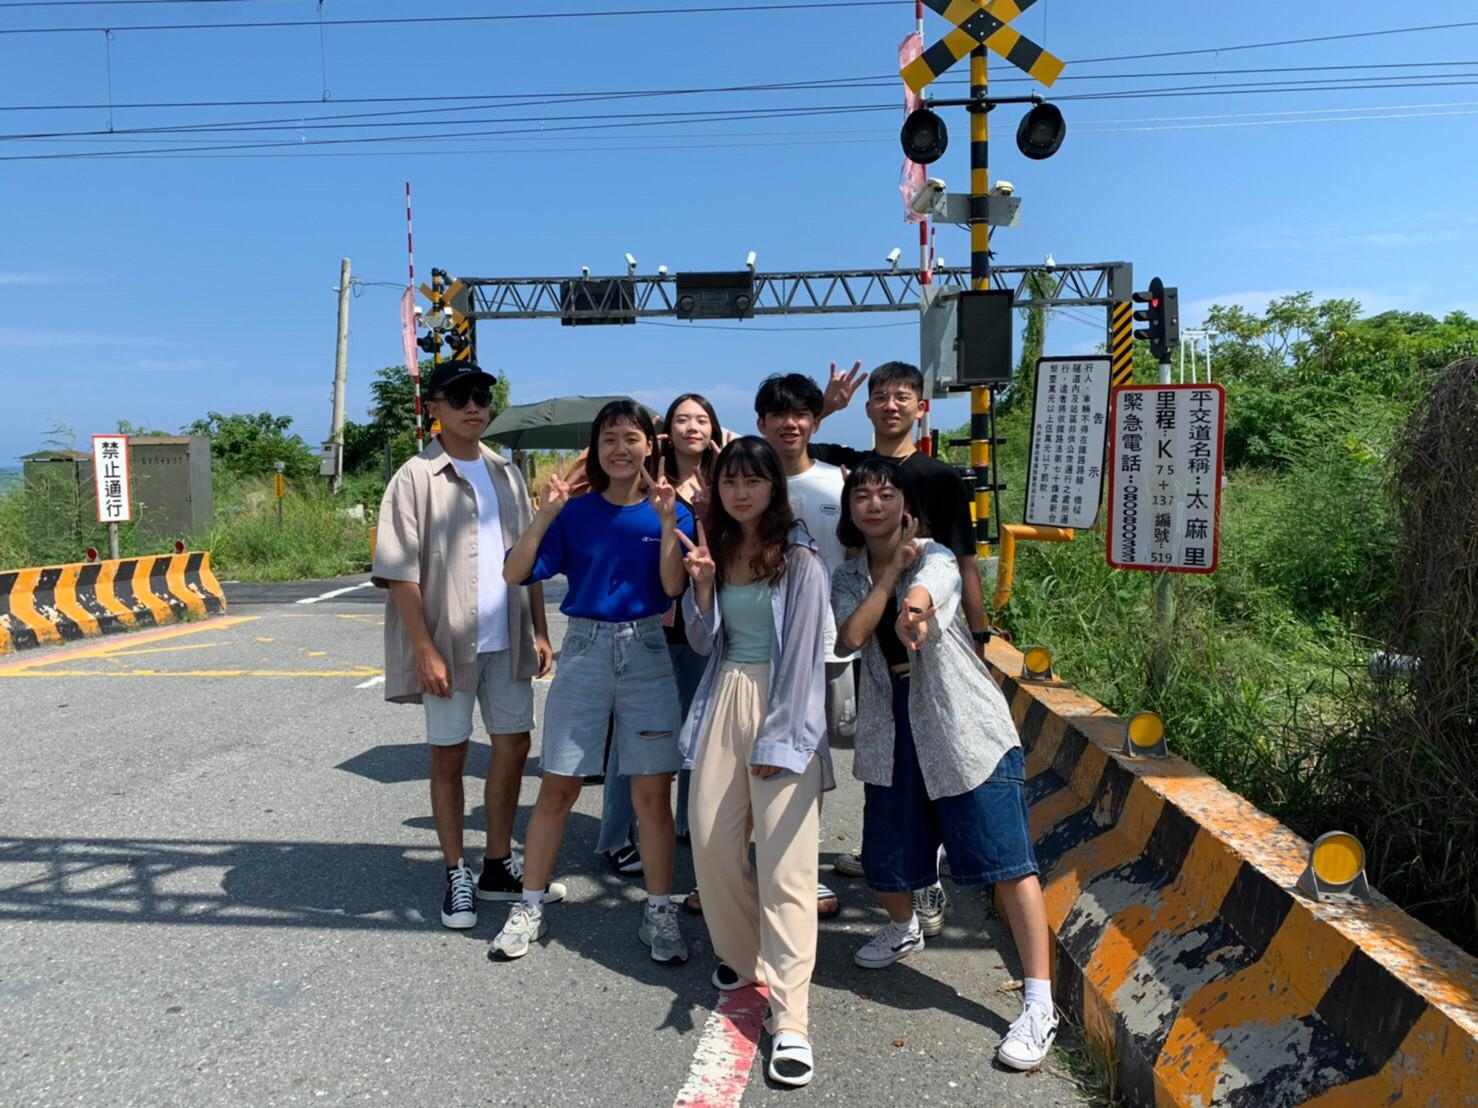people: (844, 475, 1061, 1065), (688, 442, 819, 1082), (415, 361, 548, 919), (850, 363, 952, 938), (577, 405, 675, 961), (750, 369, 846, 909), (665, 394, 725, 867)
